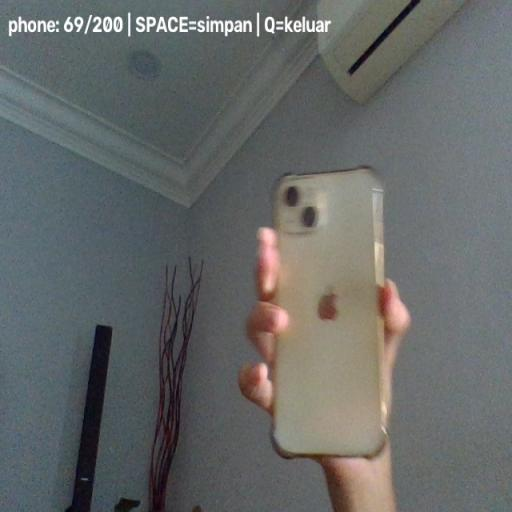Phone: (270, 165, 388, 460)
